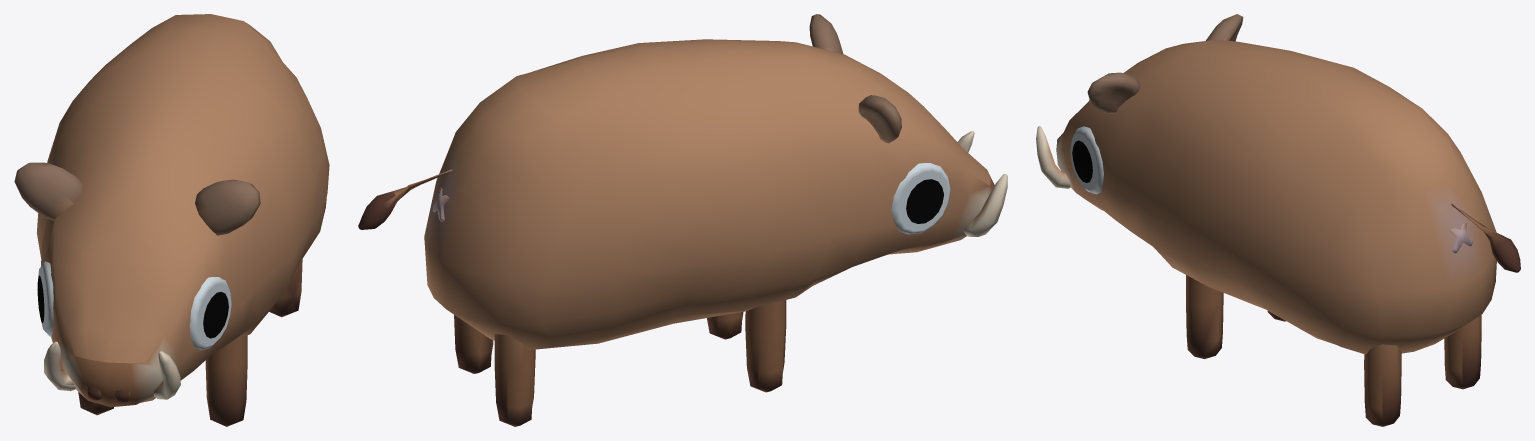
The model's file is Hog.glb.
3 renders of one model, left to right at view 1: azimuth 30°, elevation 25°; view 2: azimuth 150°, elevation 25°; view 3: azimuth 270°, elevation 25°, orthographic. The views are drawn at different scales.
Visible parts, largest first — view 1: 69; view 2: 69; view 3: 69.
Part boxes in pixels (x1=…): 69: x1=14, y1=14, x2=329, y2=426; 69: x1=358, y1=14, x2=1007, y2=426; 69: x1=1036, y1=14, x2=1520, y2=426.
Size of the model in its own units: 0.8325 by 0.6103 by 0.9077.
